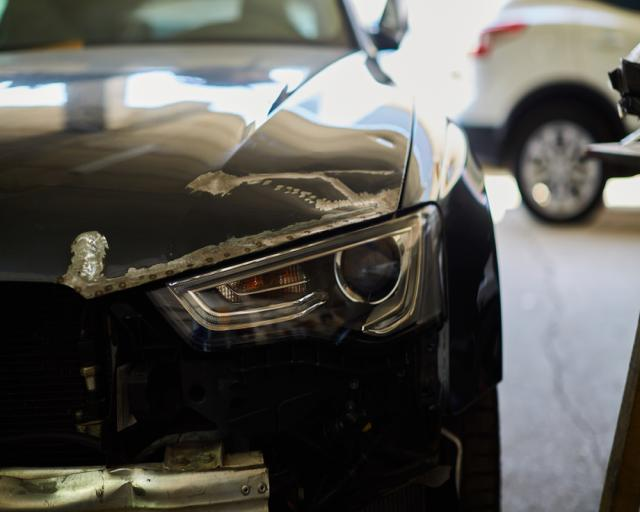scratch: (60, 164, 404, 298)
